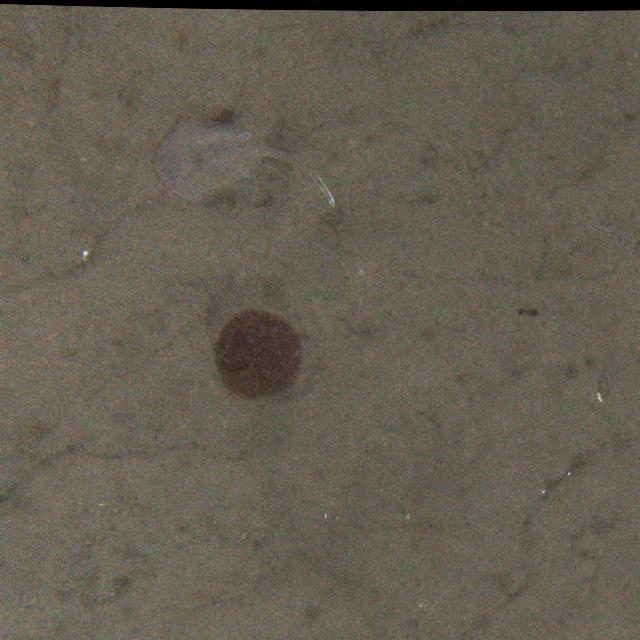skate: (143, 98, 336, 214)
